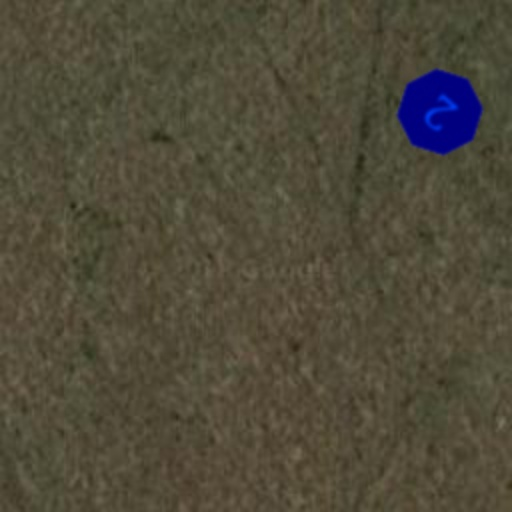octagon: (378, 50, 502, 174)
